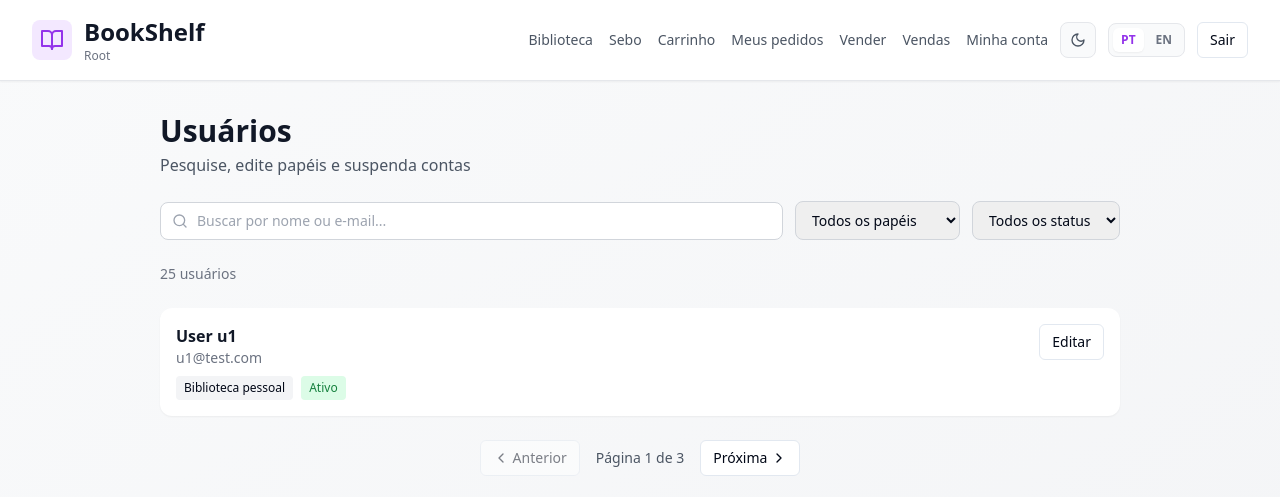
Scenario: AdminUsersPage listing › paginates
The width and height of the screenshot is (1280, 497).
Expected: the text with test id "pagination-info" reads "Página 1 de 3", [596,448,684,467]
Click the button with test id "pagination-next" at (750, 458), box [700,440,800,476]
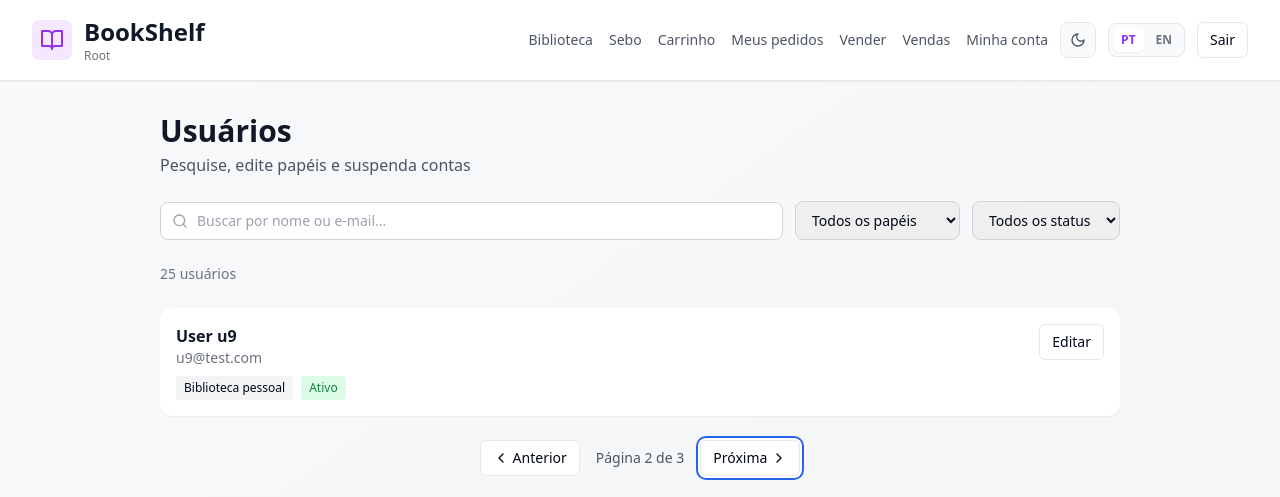
Expected: the list item with test id "admin-user-u9" is shown, [160,308,1120,416]
